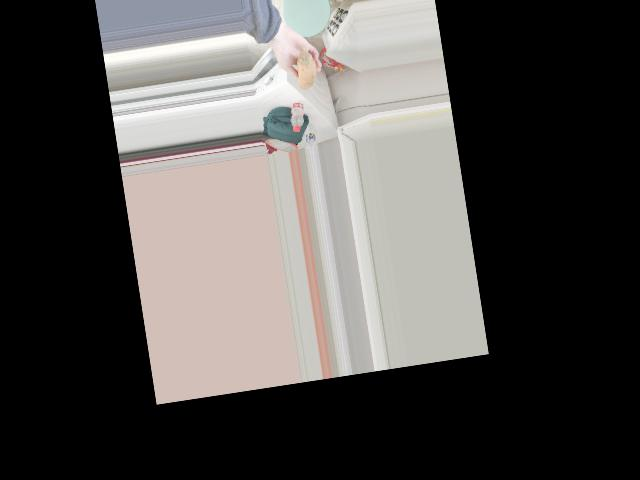sweet_potato: (290, 44, 317, 93)
